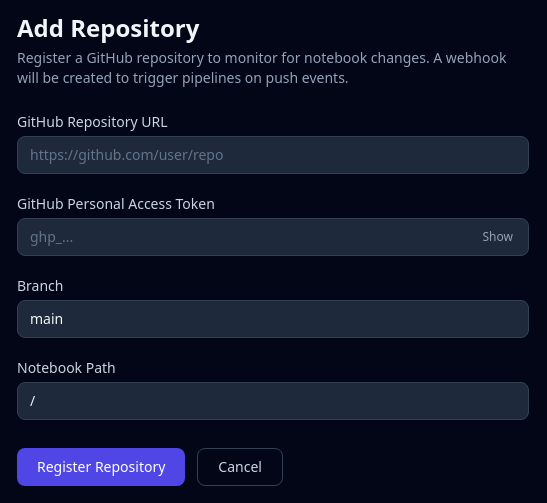
Test: AddRepository › submits form and shows success with webhook url on success
Type "https://github.com/testuser/newrepo" into the field labelled "GitHub Repository URL".
click(273, 155); type("https://github.com/testuser/newrepo")  # box [17,136,529,174]
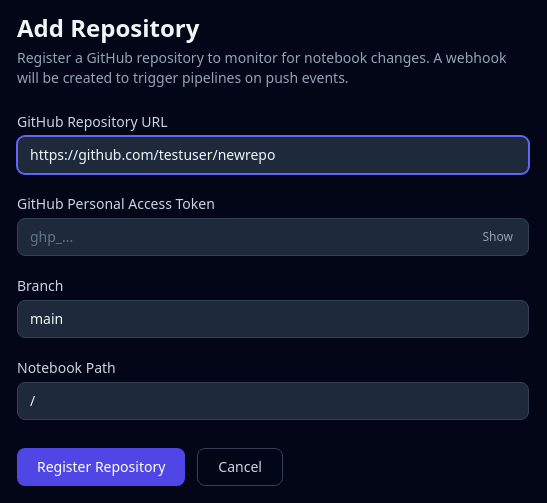
Type "ghp_test1234567890" into the password field labelled "GitHub Personal Access Token".
click(273, 237); type("ghp_test1234567890")  # box [17,218,529,256]
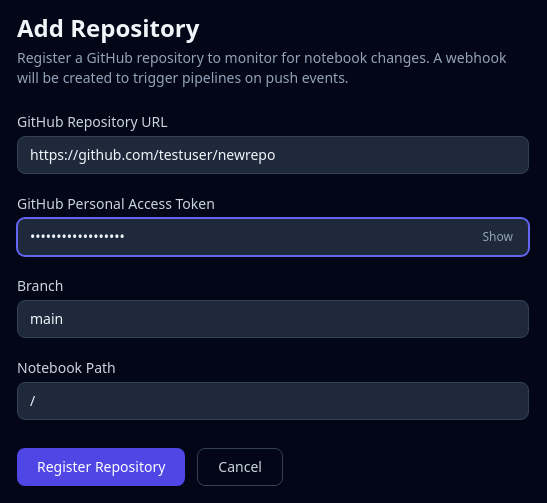
Click the button "Register Repository".
click(101, 467)  # box [17,448,185,486]
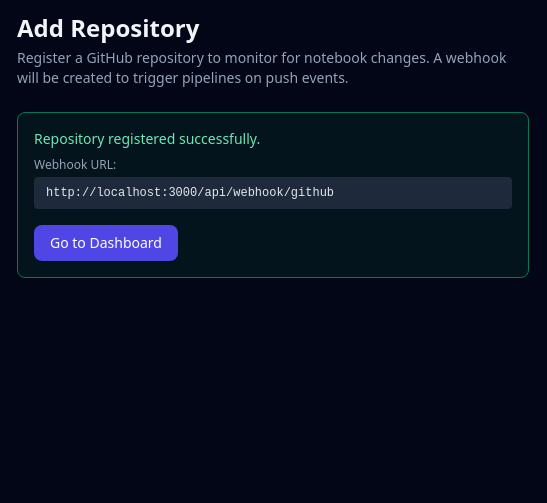
Result: the text "Repository registered successfully." is shown at [34,129,260,148]
Result: the text "Webhook URL:" is shown at [34,156,116,173]
